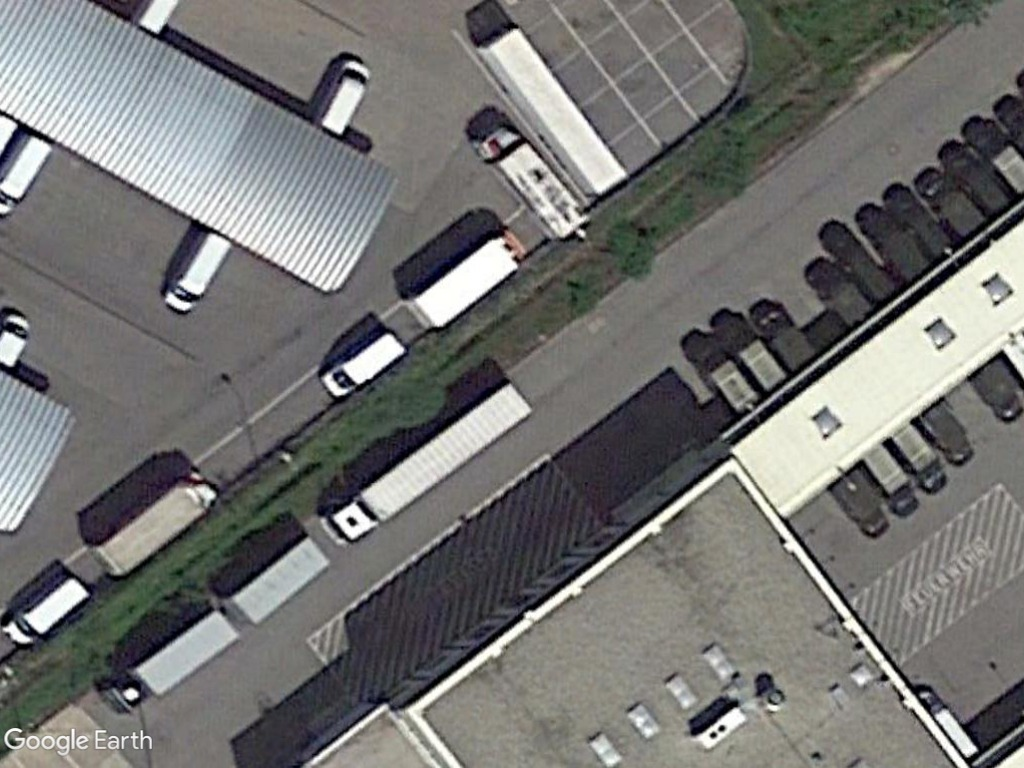longvehicle: (323, 379, 531, 546), (475, 20, 630, 198)
truck: (103, 608, 246, 715), (477, 122, 594, 237), (96, 471, 222, 577), (408, 226, 530, 329)
van: (1, 572, 89, 651), (321, 330, 408, 402), (162, 229, 230, 317), (317, 54, 374, 137)
